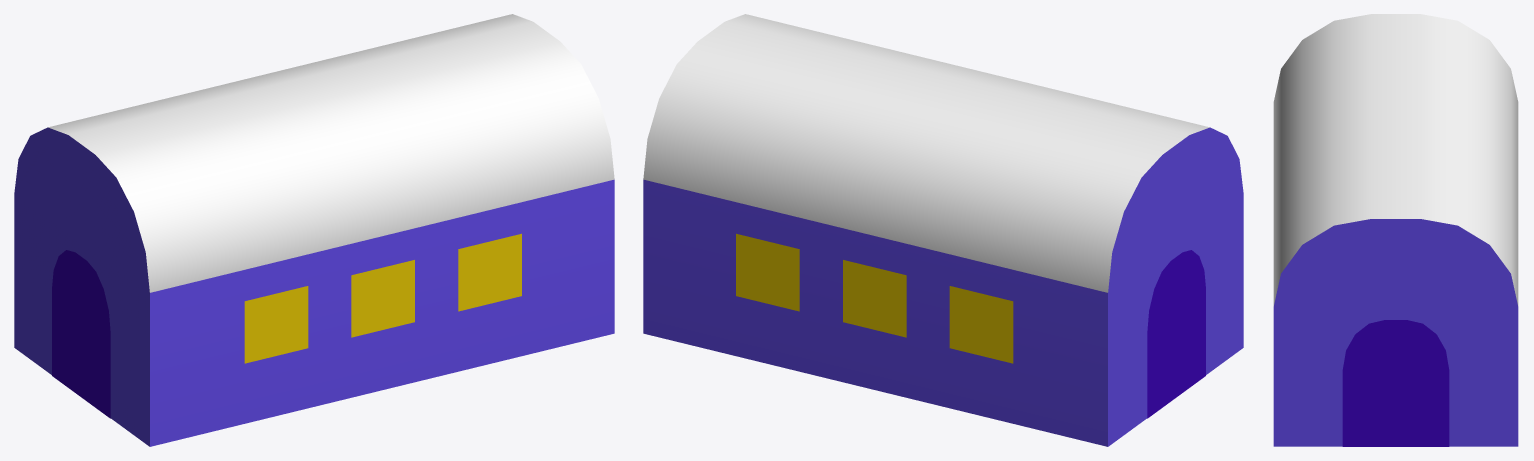
Rendered from Building_027.fbx.
3 renders of one model, left to right at view 1: azimuth 30°, elevation 25°; view 2: azimuth 150°, elevation 25°; view 3: azimuth 270°, elevation 25°, orthographic. The views are drawn at different scales.
Parts seen in each view (by area): view 1: Building_027; view 2: Building_027; view 3: Building_027.
Boxes of the visible parts, x1=… form: Building_027: x1=14, y1=14, x2=614, y2=446; Building_027: x1=643, y1=14, x2=1243, y2=446; Building_027: x1=1273, y1=14, x2=1518, y2=446.
Size of the model in its own units: 4.76 by 2.46 by 2.42.
